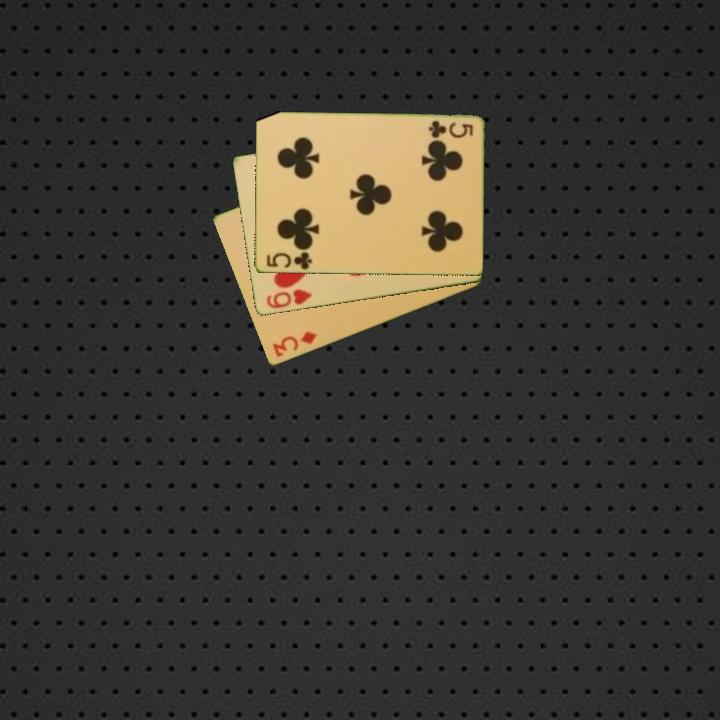3d: (269, 328, 320, 360)
5c: (263, 248, 314, 272), (425, 117, 475, 140)
6h: (263, 286, 314, 312)
